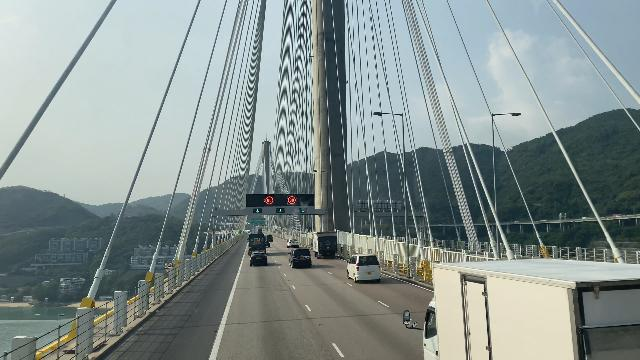car: (248, 250, 269, 268), (286, 236, 300, 248)
truck: (409, 261, 640, 360), (310, 231, 341, 260), (247, 232, 270, 251)
van: (346, 253, 382, 284), (288, 248, 313, 272)
